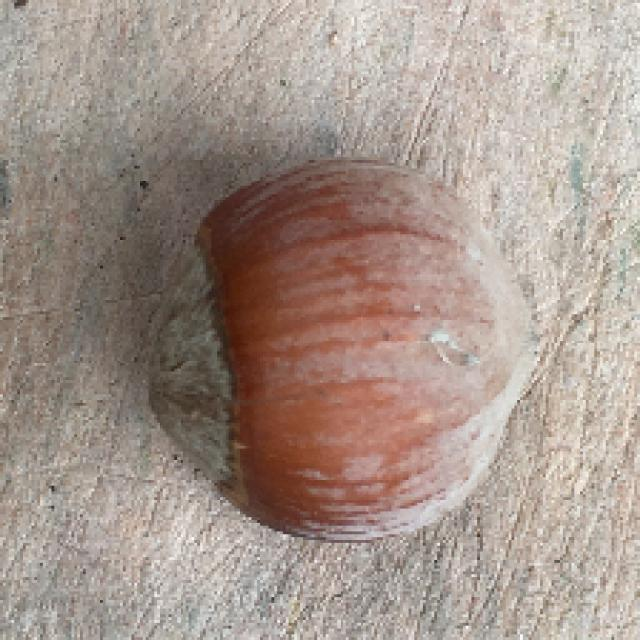qualityHazelnut: (146, 153, 542, 545)
